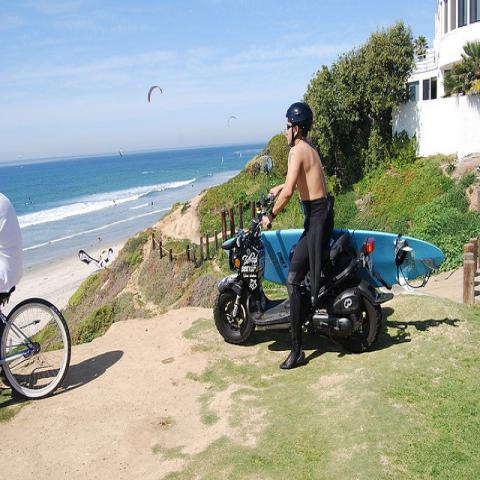motorcycle: (210, 158, 394, 350)
